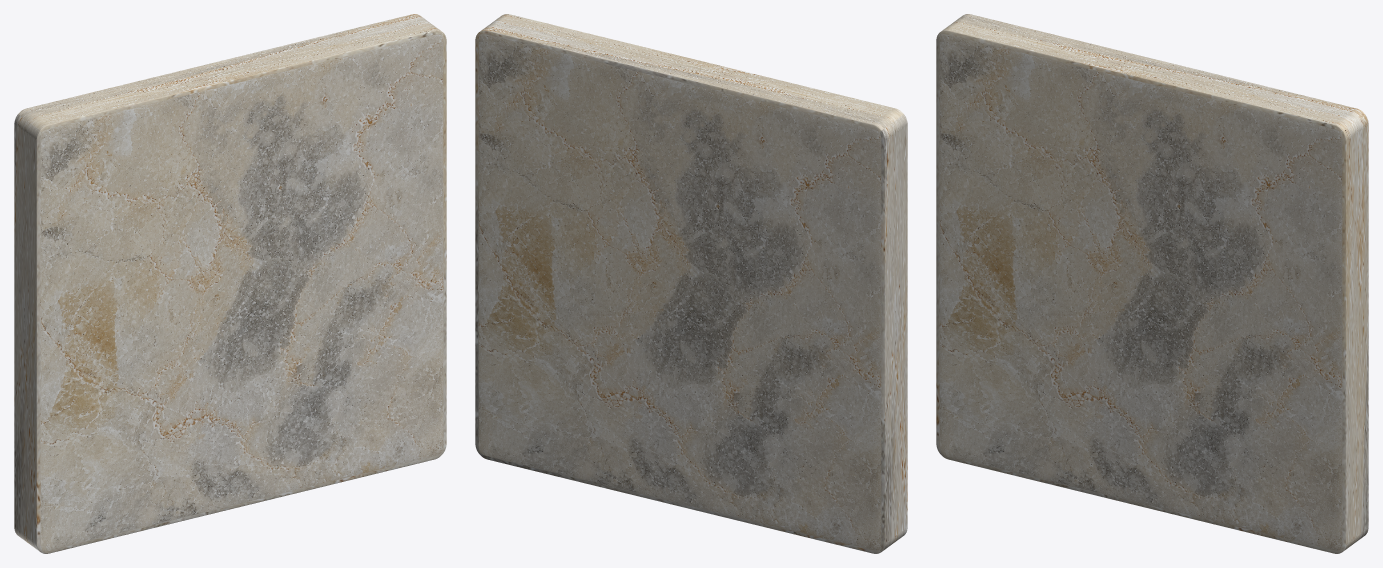
Rendered from limestone-white.glb.
The picture shows the model from 3 angles, left to right: view 1: azimuth 30°, elevation 25°; view 2: azimuth 150°, elevation 25°; view 3: azimuth 330°, elevation 25°; orthographic projection.
Visible parts, largest first — view 1: Cube; view 2: Cube; view 3: Cube.
Boxes of the visible parts, box(x1,y1,x2,y2) form: Cube: box(14, 14, 446, 553); Cube: box(475, 14, 907, 553); Cube: box(936, 14, 1368, 553).
Bounding box in the file's own units: 0.1 × 0.1 × 0.01.
2 materials, 2 textured.
